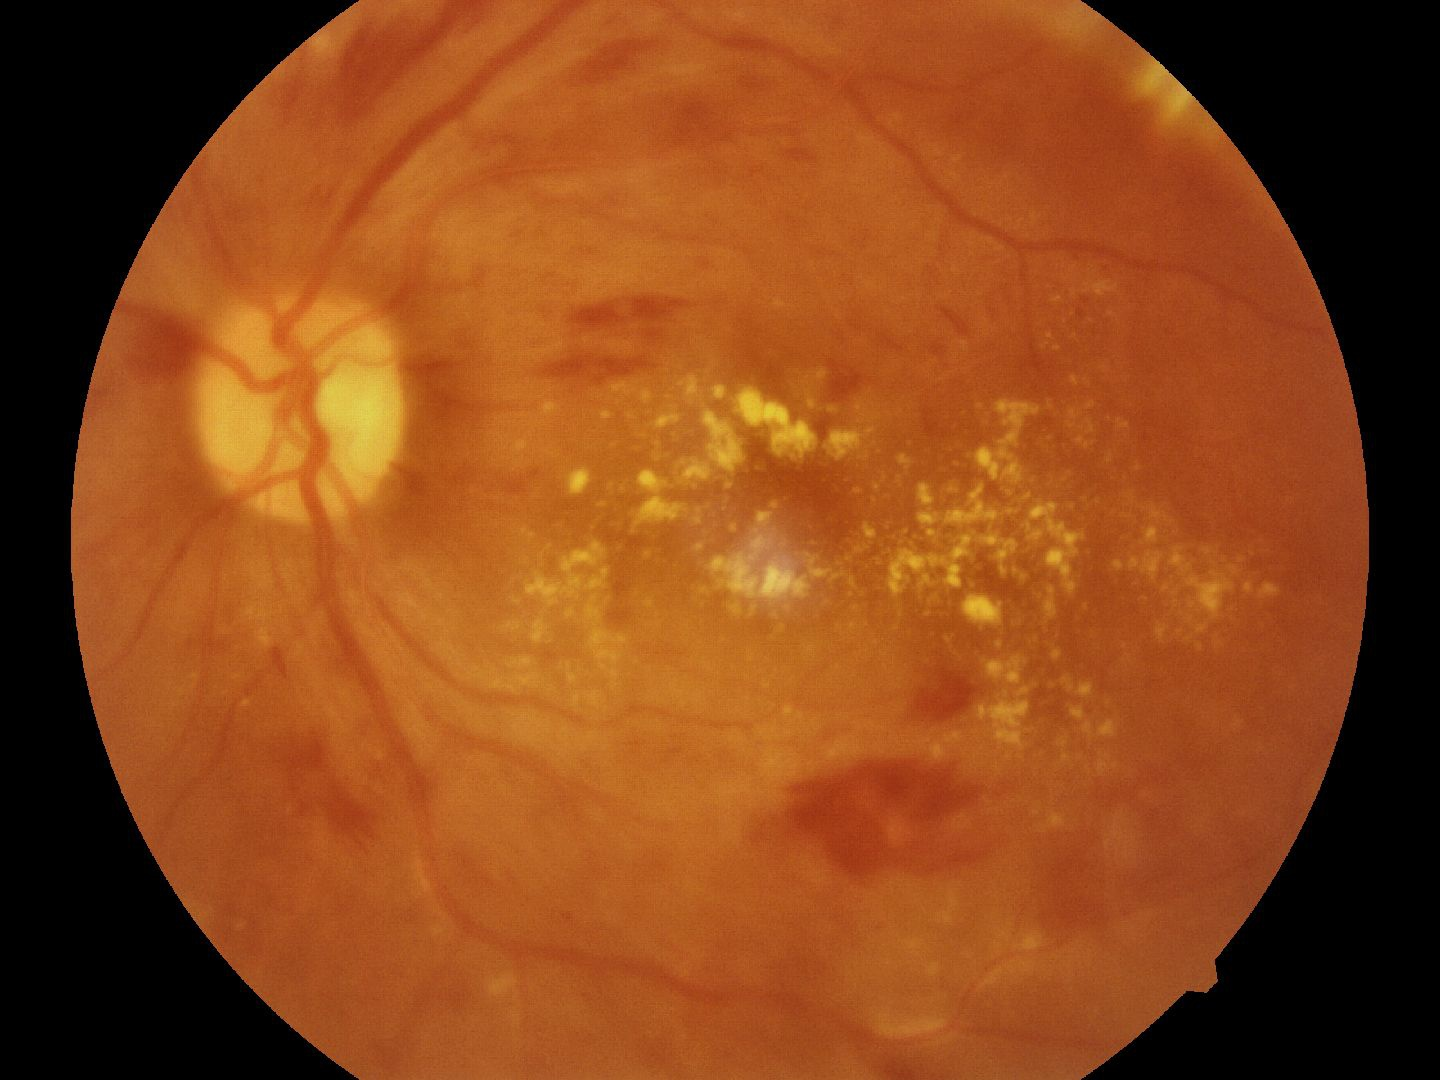Exudates: (921, 422, 1098, 729), (592, 389, 835, 608), (1128, 503, 1268, 661)
Microaneurysms: (791, 753, 979, 880), (277, 731, 369, 858), (564, 290, 675, 379)
Optic-Disc: (190, 284, 407, 529)
